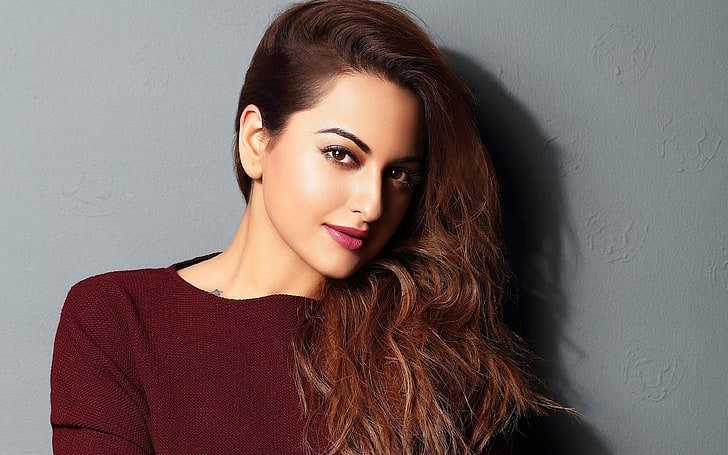noMask: (216, 5, 438, 294)
